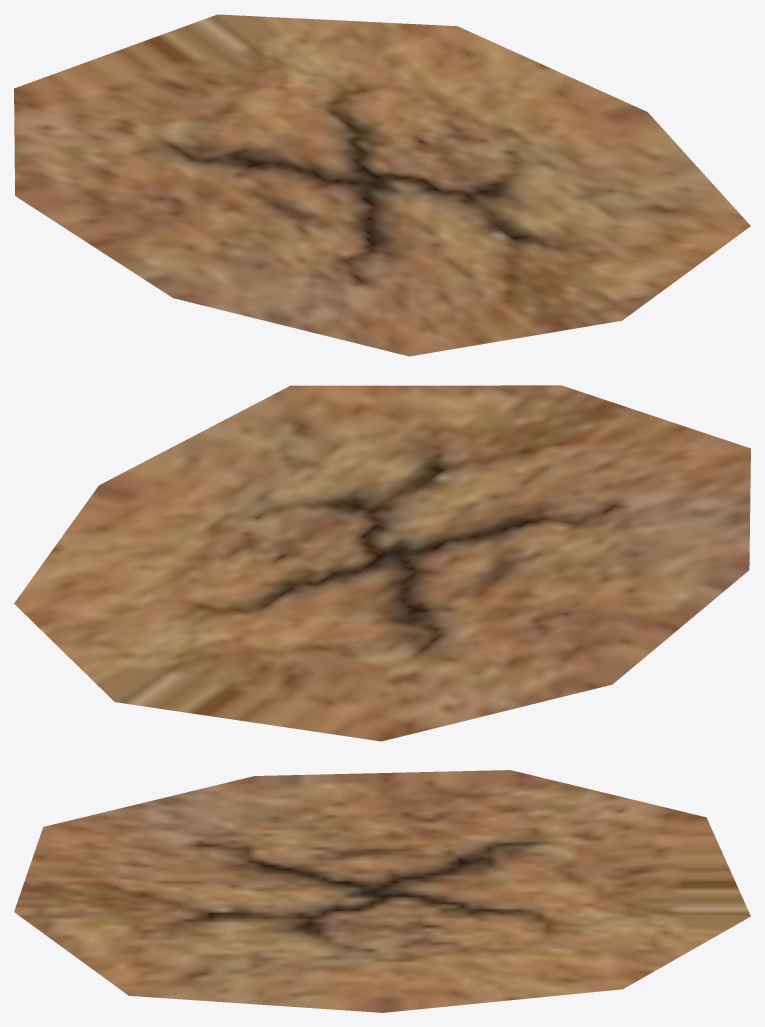
File: pir_m_efx_msc_digSpot.fbx
3 views of the same model, one above another, from view 1: azimuth 30°, elevation 25°; view 2: azimuth 150°, elevation 25°; view 3: azimuth 270°, elevation 25° (orthographic). The views are drawn at different scales.
Parts seen in each view (by area): view 1: ground; view 2: ground; view 3: ground.
Part boxes in pixels (<box>): ground: <box>14,14,750,356</box>; ground: <box>14,385,750,741</box>; ground: <box>14,770,750,1012</box>.
Size of the model in its own units: 24.1 by 0.0103 by 30.91.
1 material, 1 textured.
